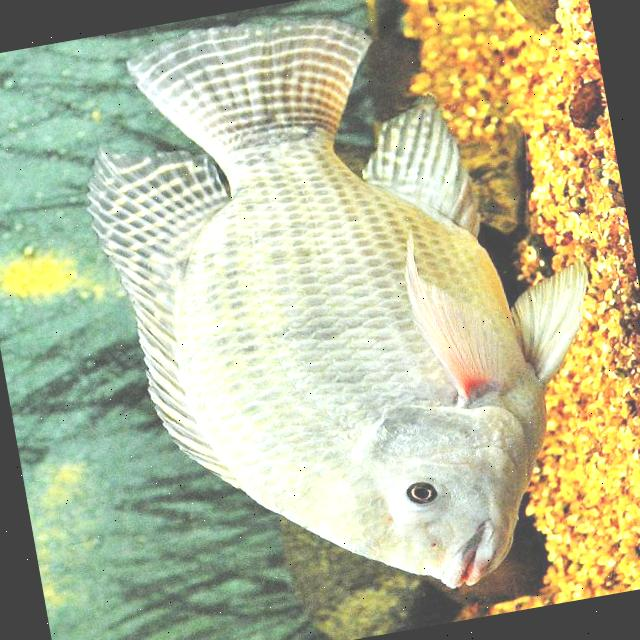Healthy Fish: (88, 20, 584, 586)
